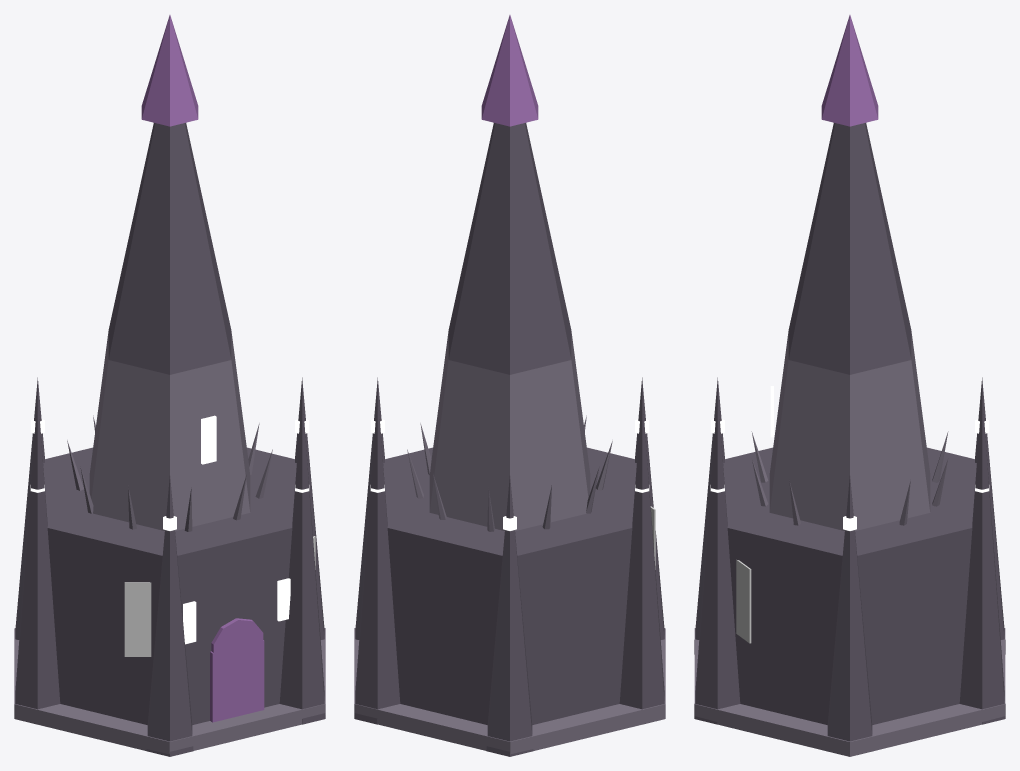
The picture shows the model from 3 angles, left to right: view 1: azimuth 30°, elevation 25°; view 2: azimuth 150°, elevation 25°; view 3: azimuth 270°, elevation 25°; orthographic projection.
Visible parts, largest first — view 1: body; view 2: body; view 3: body.
Part boxes in pixels (x1,y1,x2,y2): body: [14, 15, 325, 756]; body: [354, 15, 665, 756]; body: [694, 15, 1005, 756].
Size of the model in its own units: 13.2 by 27 by 11.43.
